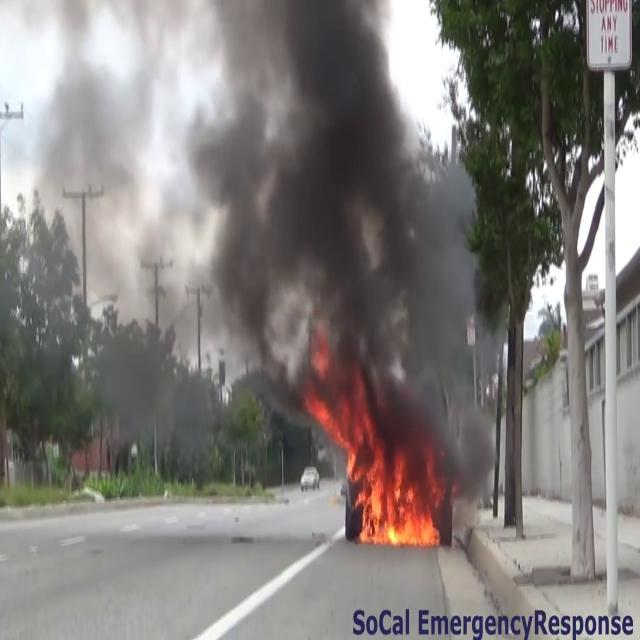Fire: (348, 434, 439, 552)
Smoke: (194, 0, 491, 458), (15, 2, 224, 440)
